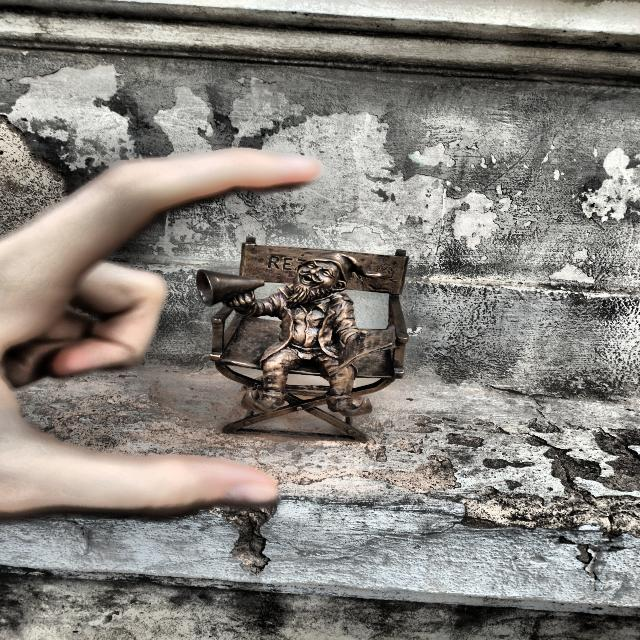Rezyser: (197, 238, 408, 440)
